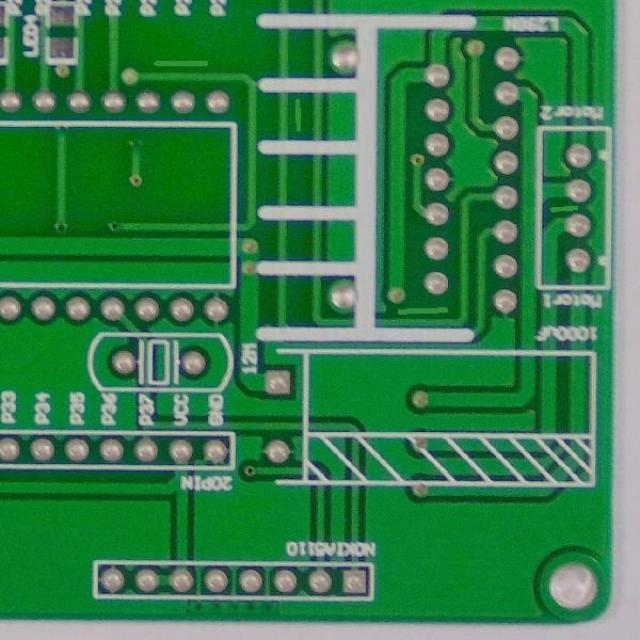spurious_copper: (390, 294, 456, 320), (148, 51, 212, 77), (287, 95, 314, 135), (545, 197, 586, 221)
